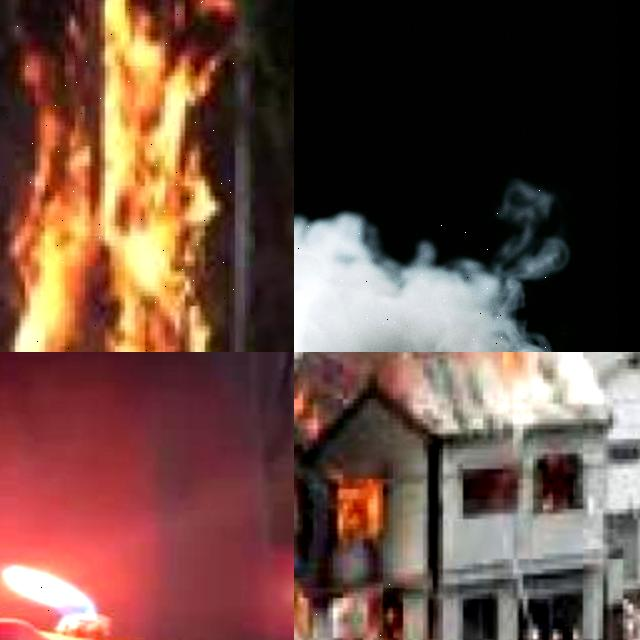fire: (10, 0, 235, 352), (1, 564, 111, 640), (294, 572, 405, 640), (294, 352, 333, 449), (336, 479, 383, 540)
smoke: (294, 216, 546, 352)
